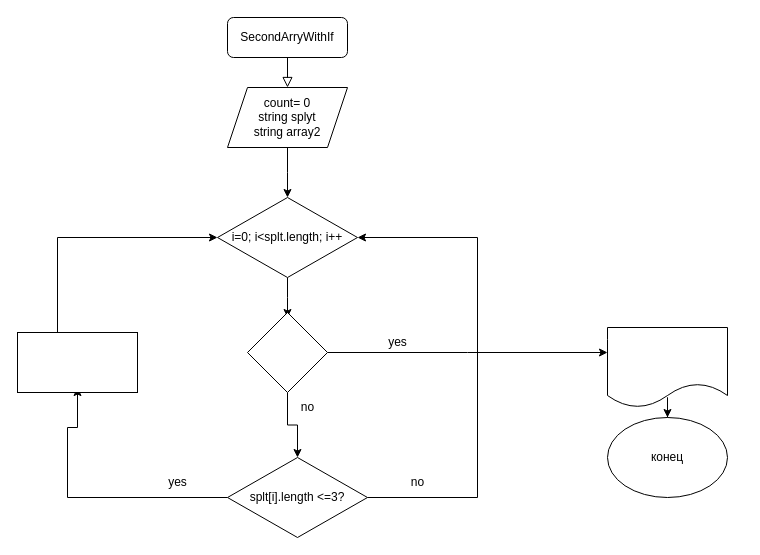
Some shapes in this 760 by 555 pixel diagram are drawn without their labels. Each missing label, with the centre of its shape:
"array2[count] = splt[i]" belongs at point 77,362.
"i<splt.length" belongs at point 287,352.
"PrintArray ( array2 )" belongs at point 667,367.
